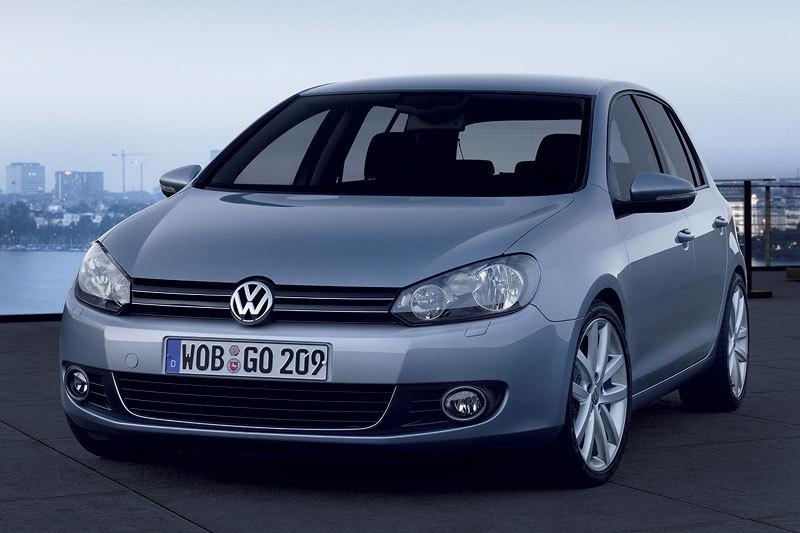Car: (40, 47, 775, 500)
